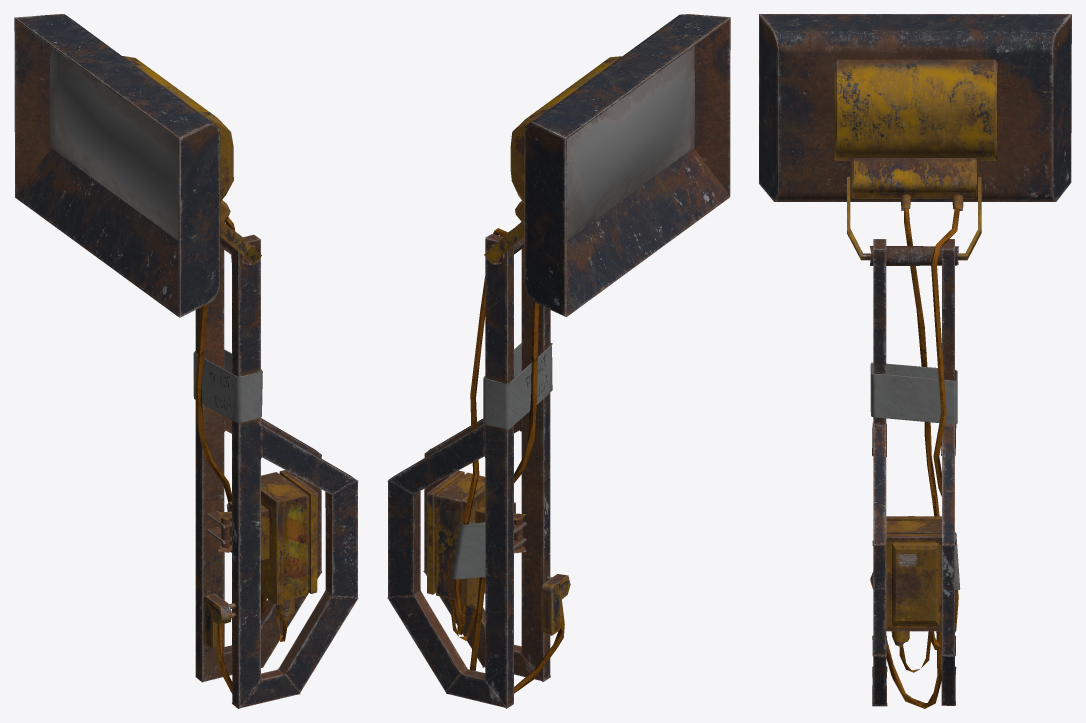
File: SM_Lamp.fbx
The picture shows the model from 3 angles, left to right: view 1: azimuth 30°, elevation 25°; view 2: azimuth 150°, elevation 25°; view 3: azimuth 270°, elevation 25°; orthographic projection. The views are drawn at different scales.
Visible parts, largest first — view 1: SM_Lamp_LOD0; view 2: SM_Lamp_LOD0; view 3: SM_Lamp_LOD0.
Boxes of the visible parts, x1=… form: SM_Lamp_LOD0: x1=14, y1=14, x2=358, y2=708; SM_Lamp_LOD0: x1=387, y1=14, x2=730, y2=708; SM_Lamp_LOD0: x1=759, y1=14, x2=1071, y2=708.
Size of the model in its own units: 40.65 by 48.52 by 107.
1 material, 1 textured.
